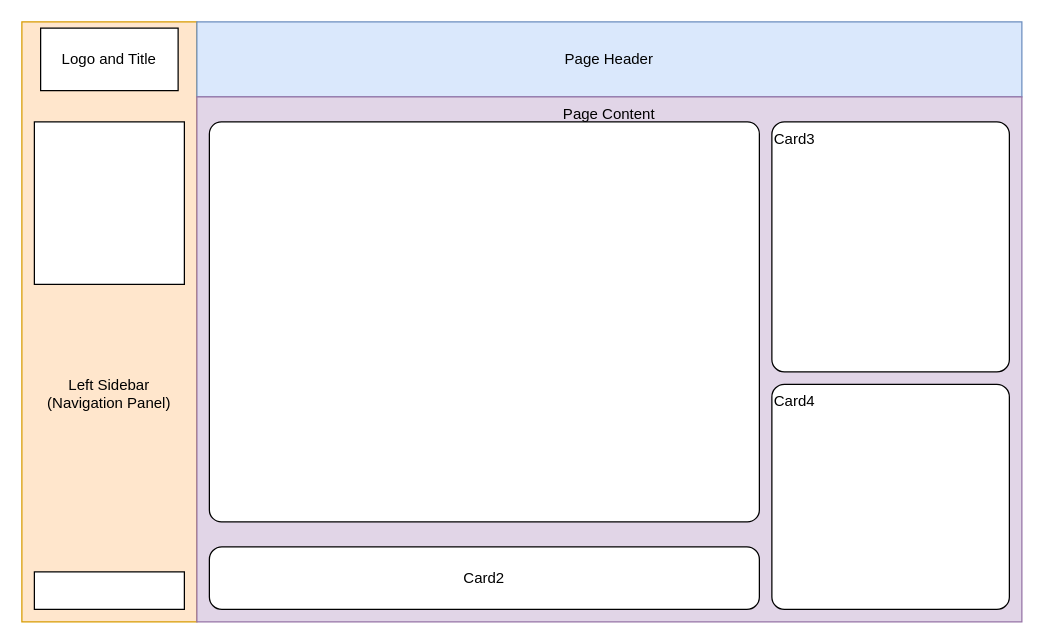
Image size: 1044x644. Some labels were removed from this diagram. Here are the shapes that lost their labels. From the top down, the centre of each, then its label:
(x=108, y=202): Navigation links
(x=483, y=321): Card1
(x=108, y=590): Footer
